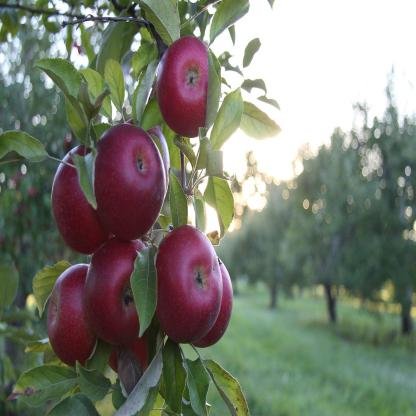apple leaf: (33, 52, 91, 126), (6, 363, 80, 411), (128, 241, 160, 342), (210, 79, 246, 166), (0, 124, 51, 172), (241, 98, 287, 150), (207, 0, 252, 51), (159, 334, 186, 416), (75, 358, 118, 405), (104, 57, 130, 125), (165, 167, 190, 229)
